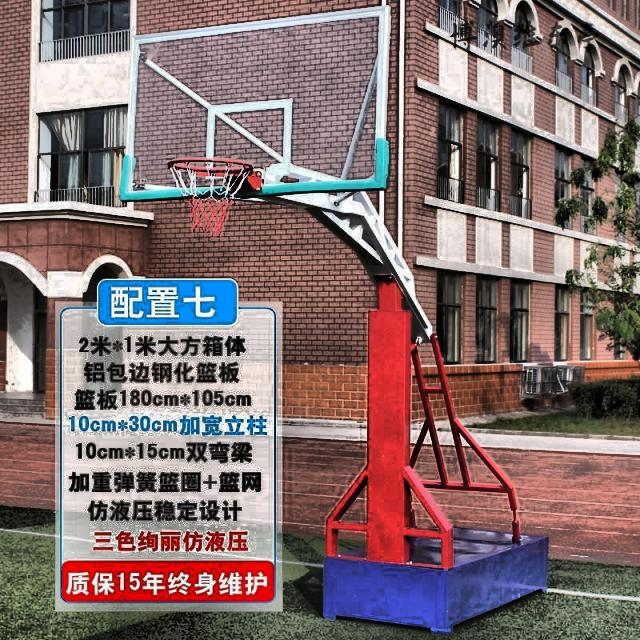rim: (168, 157, 254, 236)
